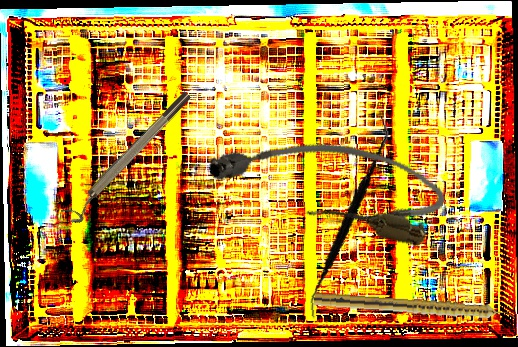Cannula: (202, 110, 452, 252)
Fixation Ring: (60, 89, 199, 227)
Handpiece: (313, 292, 516, 324)
Spatula Surgical: (280, 115, 416, 320)
